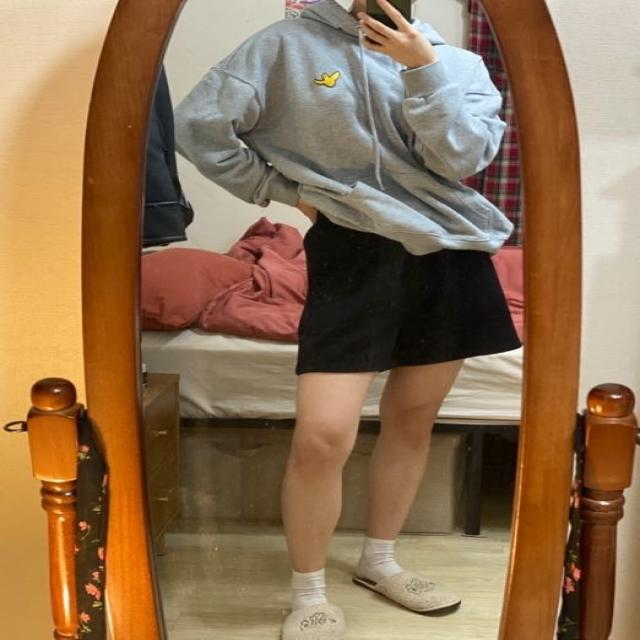hoodies: (174, 0, 516, 259)
shortpants: (296, 212, 524, 376)
